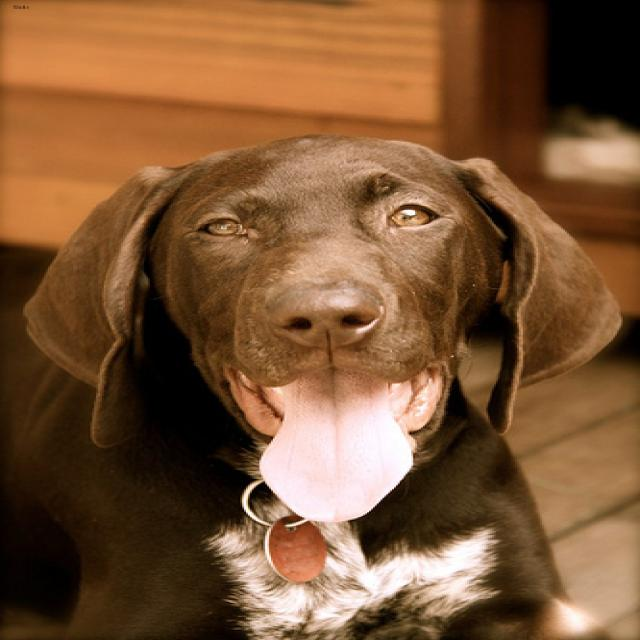dog-german_shorthaired: (2, 131, 636, 637)
